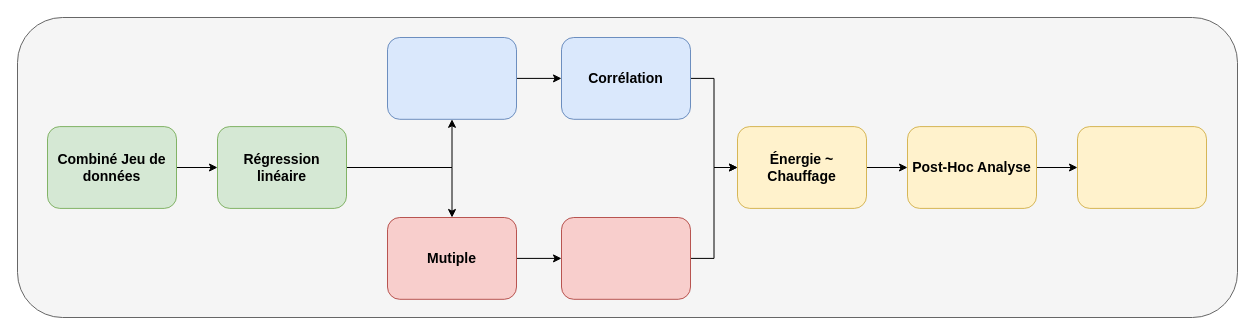
Image size: 1255x335. Some labels were removed from this diagram. Here are the shapes that lost their labels. From the top down, the centre of each, then its label:
At point (451, 77): "Simple".
At point (1141, 167): "Consummation Corrigé".
At point (625, 257): "L'importance de la relation".
